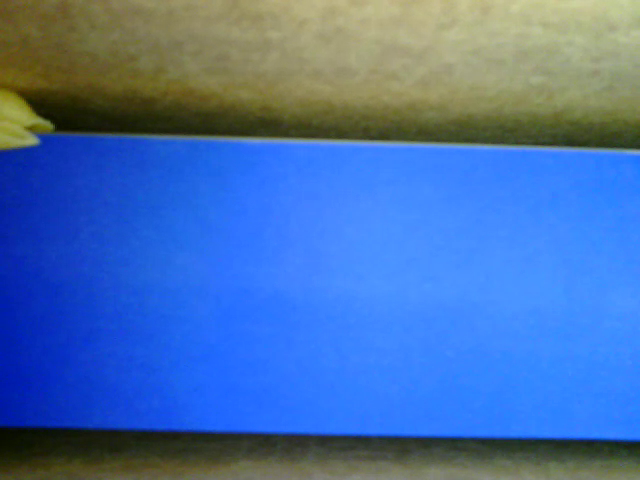penne: (1, 120, 43, 152)
shell: (1, 89, 57, 132)
